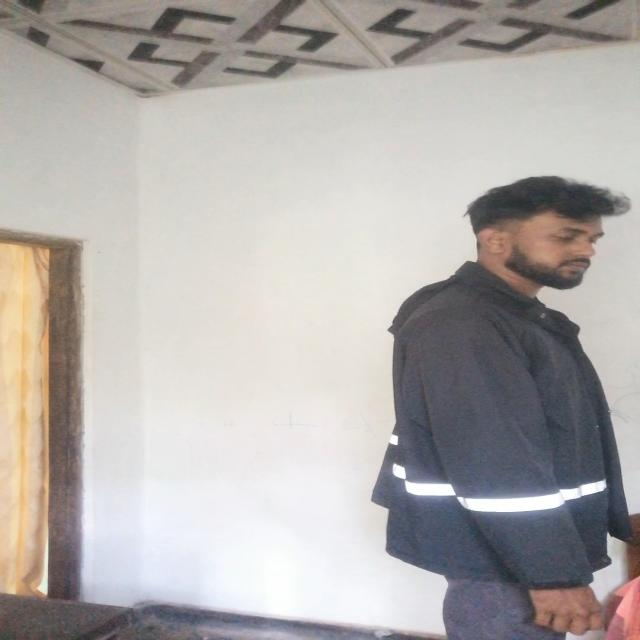Jacket_Wearer: (365, 261, 640, 585)
